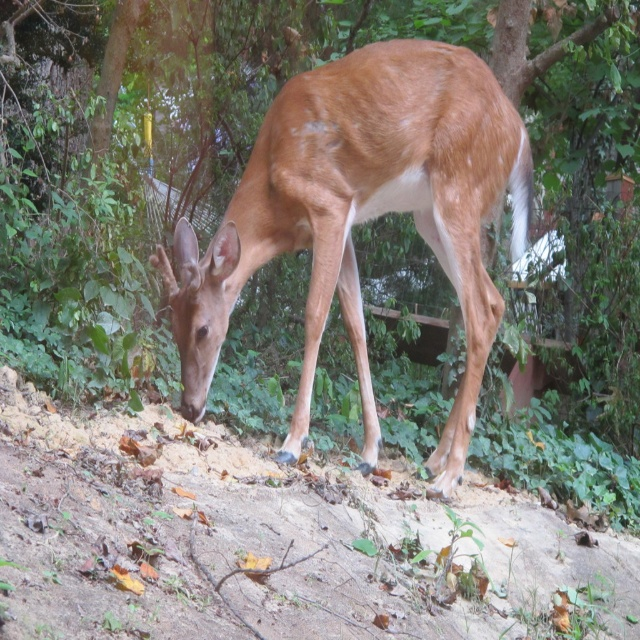Deer: (149, 39, 534, 502)
